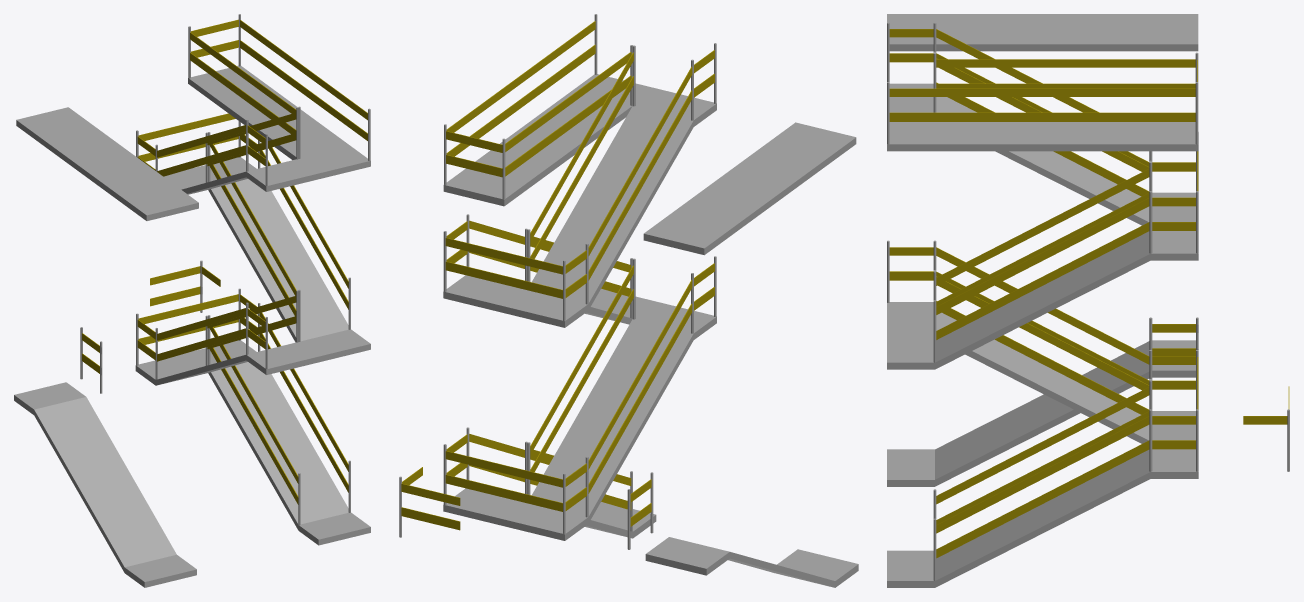
File: Andamios.fbx
3 renders of one model, left to right at view 1: azimuth 30°, elevation 25°; view 2: azimuth 150°, elevation 25°; view 3: azimuth 270°, elevation 25°, orthographic. The views are drawn at different scales.
Parts seen in each view (by area): view 1: pCube62 (×4), pCube64, pCube65, pCube63, pCylinder35, pCylinder30, polySurface174, polySurface122, polySurface125, polySurface124, polySurface151, polySurface161 (+10 smaller); view 2: pCube62 (×4), pCube65, pCube63, pCylinder35, pCube64, pCylinder30, polySurface174, polySurface122, polySurface142, polySurface124, polySurface125, polySurface164 (+4 smaller); view 3: pCube62 (×4), pCube65, pCube63, pCube64, pCylinder35, polySurface174, polySurface122, polySurface124, polySurface154, polySurface137, pCylinder30, polySurface136 (+13 smaller).
Part boxes in pixels (x1,y1,x2,y2): pCube62 (×4): (135,157,370,545); pCube64: (14,382,196,587); pCube65: (16,107,198,220); pCube63: (188,65,370,178); pCylinder35: (136,119,267,185); pCylinder30: (205,107,298,182); polySurface174: (240,40,367,140); polySurface122: (240,20,367,120); polySurface125: (190,52,296,134); polySurface124: (190,32,296,113); polySurface151: (209,347,298,504); polySurface161: (209,164,296,316); pCube62 (×4): (443,88,716,540); pCube65: (643,122,856,255); pCube63: (443,74,655,206); pCylinder35: (504,43,716,320); pCube64: (645,537,858,587); pCylinder30: (527,45,635,281); polySurface174: (446,44,595,156); polySurface122: (446,21,595,132); polySurface142: (588,303,692,493); polySurface124: (505,52,631,151); polySurface125: (505,75,631,176); polySurface164: (530,289,633,472); pCube62 (×4): (887,83,1198,587); pCube65: (887,14,1198,51); pCube63: (887,122,1198,151); pCube64: (887,340,1195,486); pCylinder35: (887,22,1198,191); polySurface174: (889,112,1195,121); polySurface122: (889,88,1195,96); polySurface124: (936,59,1195,67); polySurface154: (936,440,1149,558); polySurface137: (936,222,1149,339); pCylinder30: (933,51,1152,196); polySurface136: (936,198,1149,314).
Bounding box in the file's own units: 0.1298 × 0.2323 × 0.168.
